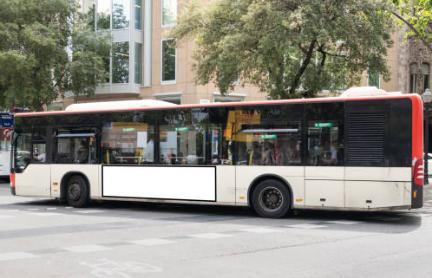vehicle: (5, 86, 425, 219)
